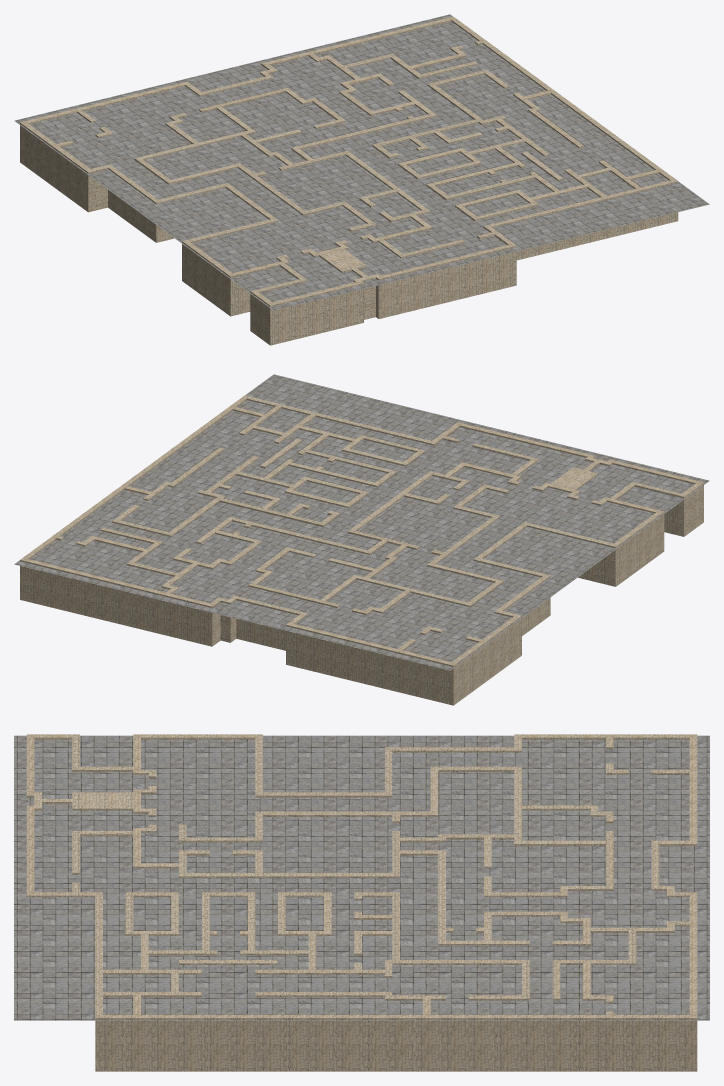
File: HorrorGameLevel.fbx
3 renders of one model, top to bottom at view 1: azimuth 30°, elevation 25°; view 2: azimuth 150°, elevation 25°; view 3: azimuth 270°, elevation 25°, orthographic. The views are drawn at different scales.
Visible parts, largest first — view 1: Cube, Walls; view 2: Cube, Walls; view 3: Cube, Walls.
Boxes of the visible parts, x1,y1,x2,y2 form: Cube: (14,14,709,310); Walls: (20,16,678,345); Cube: (14,374,709,670); Walls: (20,395,703,705); Cube: (14,735,709,1020); Walls: (26,734,697,1071).
Size of the model in its own units: 28968 by 2540 by 29887.
